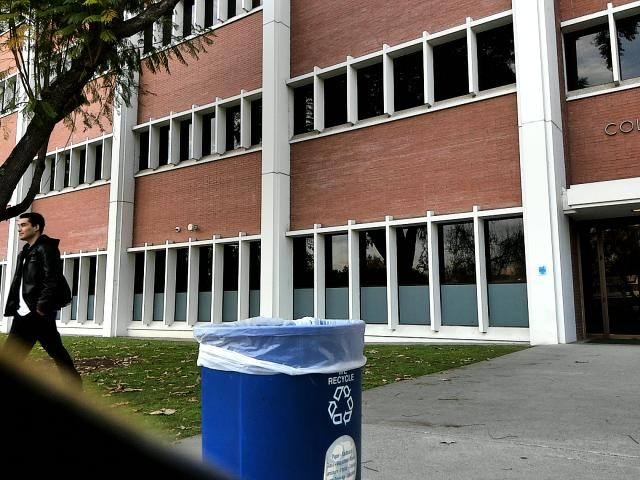trashcan_open: (186, 309, 379, 480)
